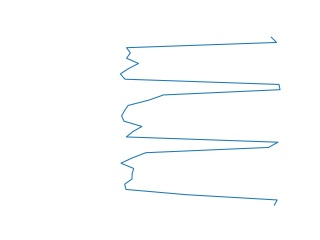majorRiverChannelBar: (117, 38, 283, 205)
